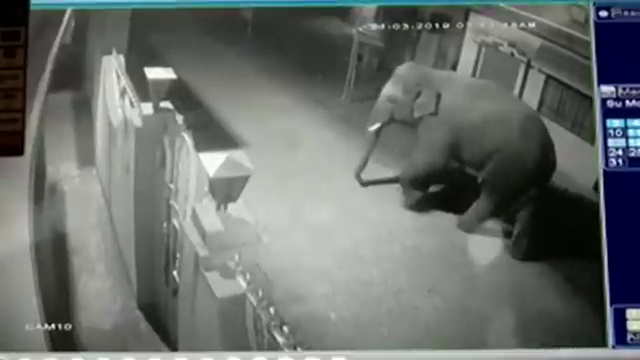Elephant: (354, 63, 557, 261)
